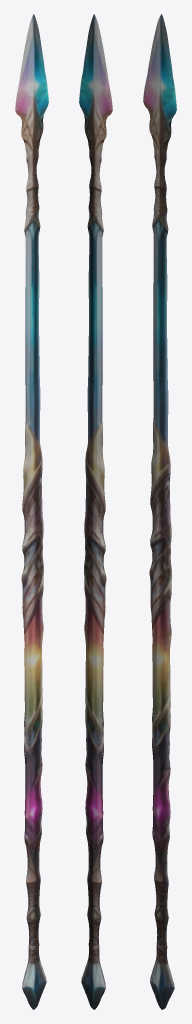
The model's file is rainbow_spear.glb.
The picture shows the model from 3 angles, left to right: view 1: azimuth 30°, elevation 25°; view 2: azimuth 150°, elevation 25°; view 3: azimuth 330°, elevation 25°; orthographic projection.
Parts seen in each view (by area): view 1: Grid; view 2: Grid; view 3: Grid.
Part boxes in pixels (left/top/right/bottom): Grid: left=15, top=14, right=48, bottom=1009; Grid: left=79, top=14, right=112, bottom=1009; Grid: left=143, top=14, right=176, bottom=1009.
Bounding box in the file's own units: 0.2566 × 7.23 × 0.0413.
Materials: 1 (1 with a texture image).
